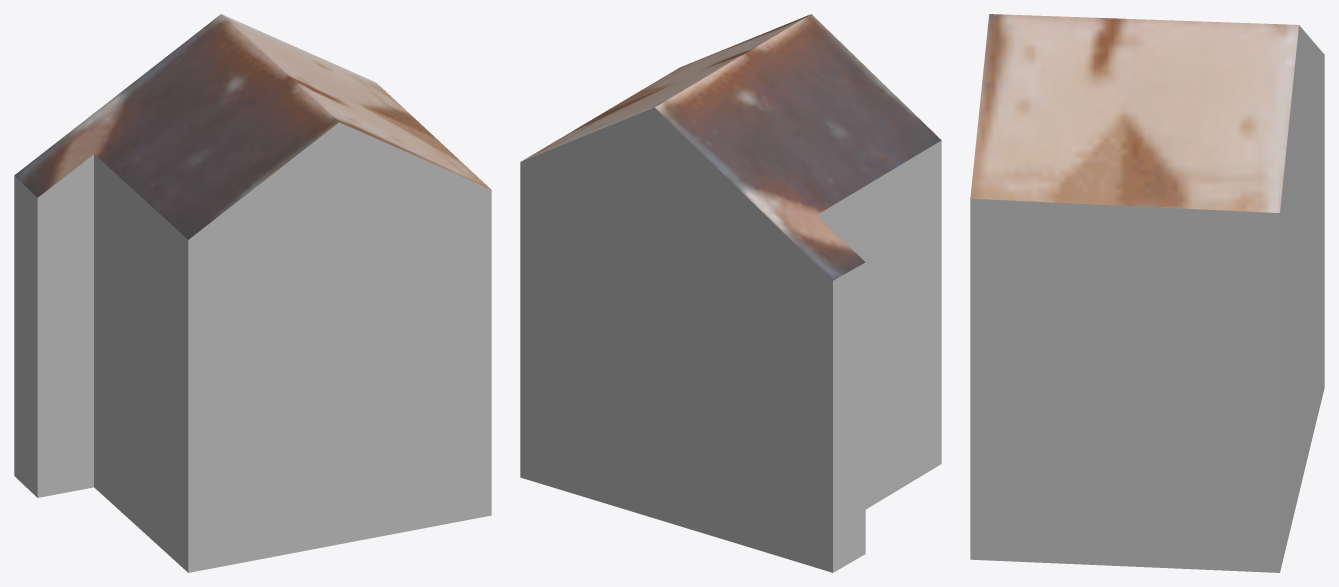
File: DEBW_0010007Txgm.gltf
3 views of the same model, side by side, from view 1: azimuth 30°, elevation 25°; view 2: azimuth 150°, elevation 25°; view 3: azimuth 270°, elevation 25° (orthographic). The views are drawn at different scales.
Visible parts, largest first — view 1: Z_UP; view 2: Z_UP; view 3: Z_UP.
Part boxes in pixels (x1,y1,x2,y2): Z_UP: [14, 14, 491, 572]; Z_UP: [520, 14, 941, 572]; Z_UP: [970, 14, 1324, 572].
Bounding box in the file's own units: 15.71 × 18.29 × 12.53.
Materials: 2 (1 with a texture image).
